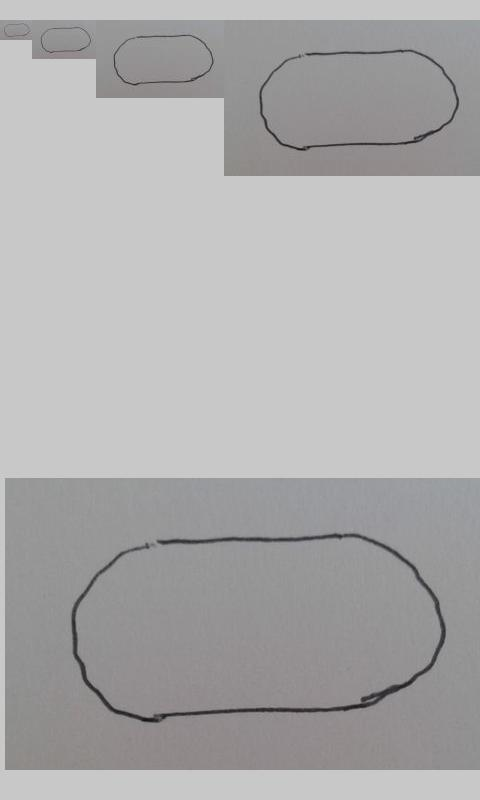chip: (72, 532, 446, 722), (259, 49, 459, 151), (113, 34, 214, 86), (40, 26, 92, 53), (3, 23, 31, 38)
